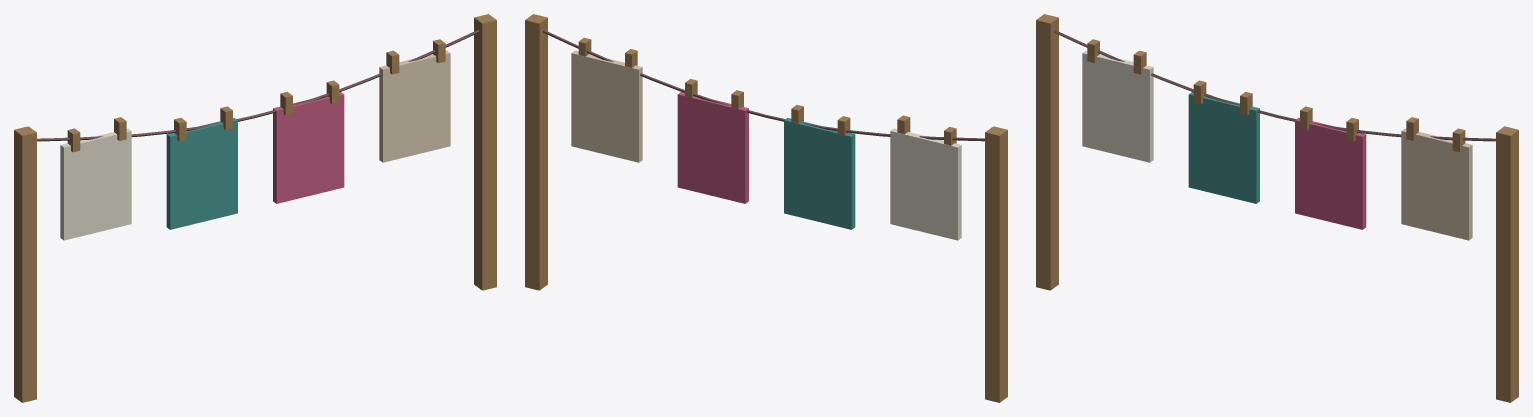
Rendered from laundry_line.glb.
The picture shows the model from 3 angles, left to right: view 1: azimuth 30°, elevation 25°; view 2: azimuth 150°, elevation 25°; view 3: azimuth 330°, elevation 25°; orthographic projection.
Visible parts, largest first — view 1: move_sway_Laundry_cloth, move_sway_Laundry_cloth.003, move_sway_Laundry_cloth.001, move_sway_Laundry_cloth.002, Laundry_line_post, Laundry_line_post.001, thin_Laundry_line_rope; view 2: move_sway_Laundry_cloth, move_sway_Laundry_cloth.003, move_sway_Laundry_cloth.001, move_sway_Laundry_cloth.002, Laundry_line_post, Laundry_line_post.001, thin_Laundry_line_rope; view 3: move_sway_Laundry_cloth, move_sway_Laundry_cloth.003, move_sway_Laundry_cloth.002, move_sway_Laundry_cloth.001, Laundry_line_post.001, Laundry_line_post, thin_Laundry_line_rope.
Part boxes in pixels (<box>): move_sway_Laundry_cloth: <box>60,128,131,240</box>; move_sway_Laundry_cloth.003: <box>379,50,450,162</box>; move_sway_Laundry_cloth.001: <box>166,117,237,229</box>; move_sway_Laundry_cloth.002: <box>273,92,344,203</box>; Laundry_line_post: <box>14,126,36,402</box>; Laundry_line_post.001: <box>474,14,496,290</box>; thin_Laundry_line_rope: <box>37,30,478,141</box>; move_sway_Laundry_cloth: <box>890,128,961,240</box>; move_sway_Laundry_cloth.003: <box>571,50,642,162</box>; move_sway_Laundry_cloth.001: <box>784,117,855,229</box>; move_sway_Laundry_cloth.002: <box>677,92,748,203</box>; Laundry_line_post: <box>985,126,1007,402</box>; Laundry_line_post.001: <box>525,14,547,290</box>; thin_Laundry_line_rope: <box>543,30,984,141</box>; move_sway_Laundry_cloth: <box>1082,50,1153,162</box>; move_sway_Laundry_cloth.003: <box>1401,128,1472,240</box>; move_sway_Laundry_cloth.002: <box>1295,117,1366,229</box>; move_sway_Laundry_cloth.001: <box>1188,92,1259,203</box>; Laundry_line_post.001: <box>1496,126,1518,402</box>; Laundry_line_post: <box>1036,14,1058,290</box>; thin_Laundry_line_rope: <box>1054,30,1495,141</box>.
Size of the model in its own units: 4.91 by 2.64 by 0.15.
